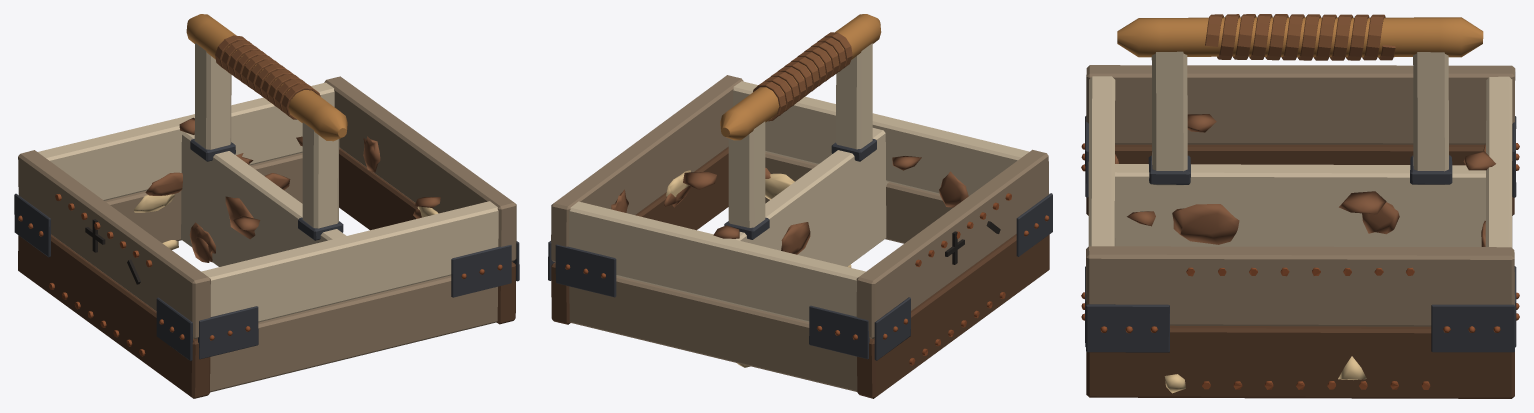
File: tool_brickmould.fbx
3 views of the same model, side by side, from view 1: azimuth 30°, elevation 25°; view 2: azimuth 150°, elevation 25°; view 3: azimuth 270°, elevation 25° (orthographic). The views are drawn at different scales.
Parts seen in each view (by area): view 1: Tool_BrickMould_Frame, Tool_BrickMould_Grip, Tool_BrickMould_Iron, Tool_BrickMould_Mud; view 2: Tool_BrickMould_Frame, Tool_BrickMould_Grip, Tool_BrickMould_Iron, Tool_BrickMould_Mud; view 3: Tool_BrickMould_Frame, Tool_BrickMould_Grip, Tool_BrickMould_Iron, Tool_BrickMould_Mud.
Part boxes in pixels (<box>): Tool_BrickMould_Frame: <box>18,76,516,398</box>; Tool_BrickMould_Grip: <box>186,14,347,240</box>; Tool_BrickMould_Iron: <box>14,139,519,360</box>; Tool_BrickMould_Mud: <box>85,117,440,284</box>; Tool_BrickMould_Frame: <box>551,75,1049,398</box>; Tool_BrickMould_Grip: <box>720,14,881,227</box>; Tool_BrickMould_Iron: <box>548,139,1052,365</box>; Tool_BrickMould_Mud: <box>611,156,1000,367</box>; Tool_BrickMould_Frame: <box>1086,65,1515,398</box>; Tool_BrickMould_Grip: <box>1117,14,1483,185</box>; Tool_BrickMould_Iron: <box>1081,116,1519,389</box>; Tool_BrickMould_Mud: <box>1115,114,1495,393</box>.
Size of the model in its own units: 45.02 by 31.2 by 41.99.
